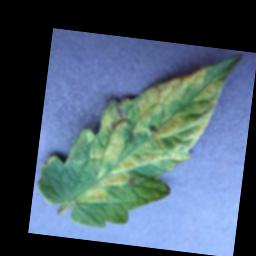Leaf_Mold: (74, 50, 227, 218)
